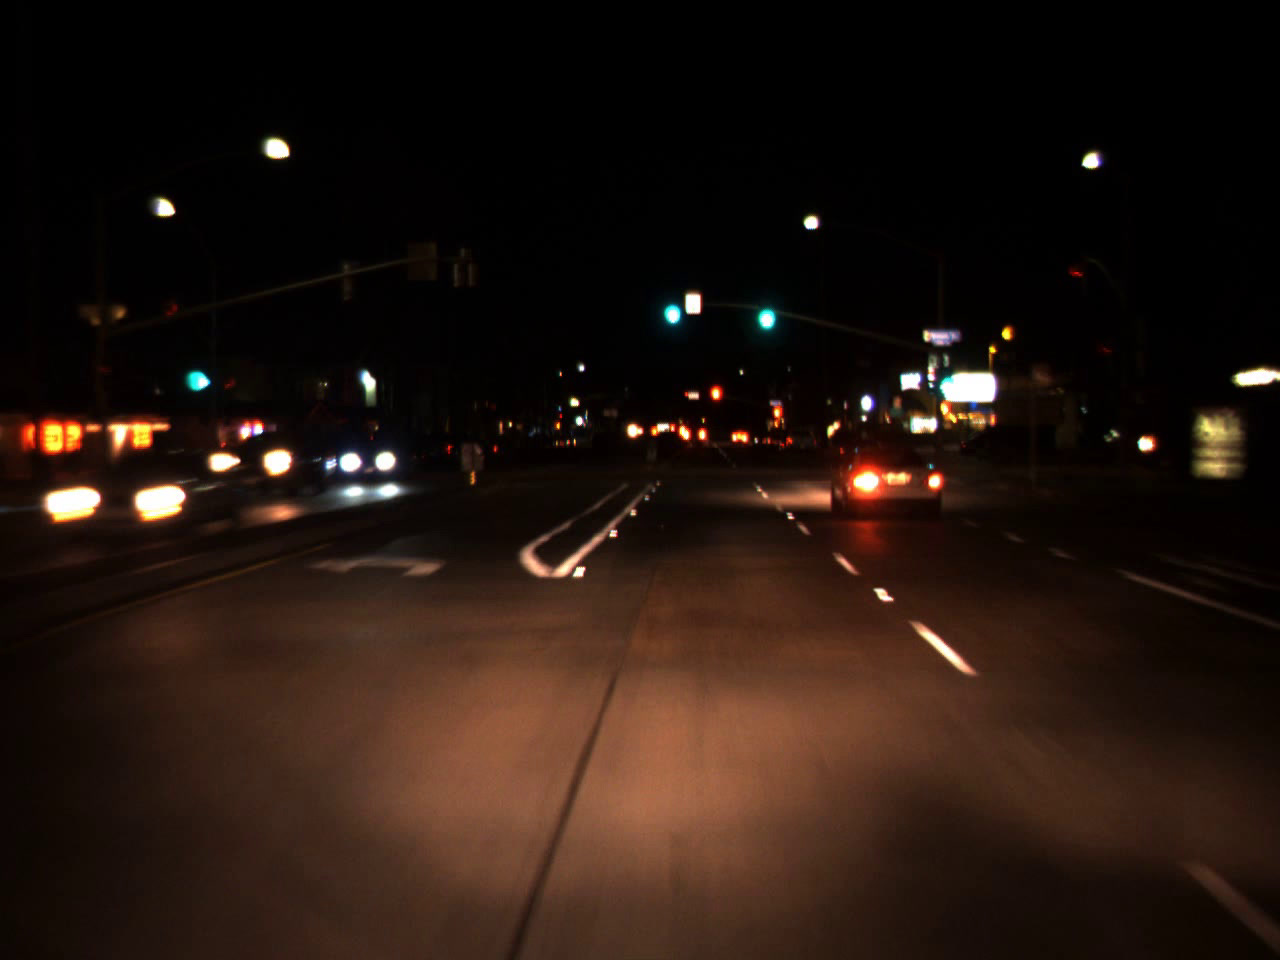go: (930, 345, 959, 405), (182, 345, 210, 399), (752, 283, 779, 337), (657, 282, 684, 330)
stop: (708, 382, 724, 419), (772, 404, 782, 428)
